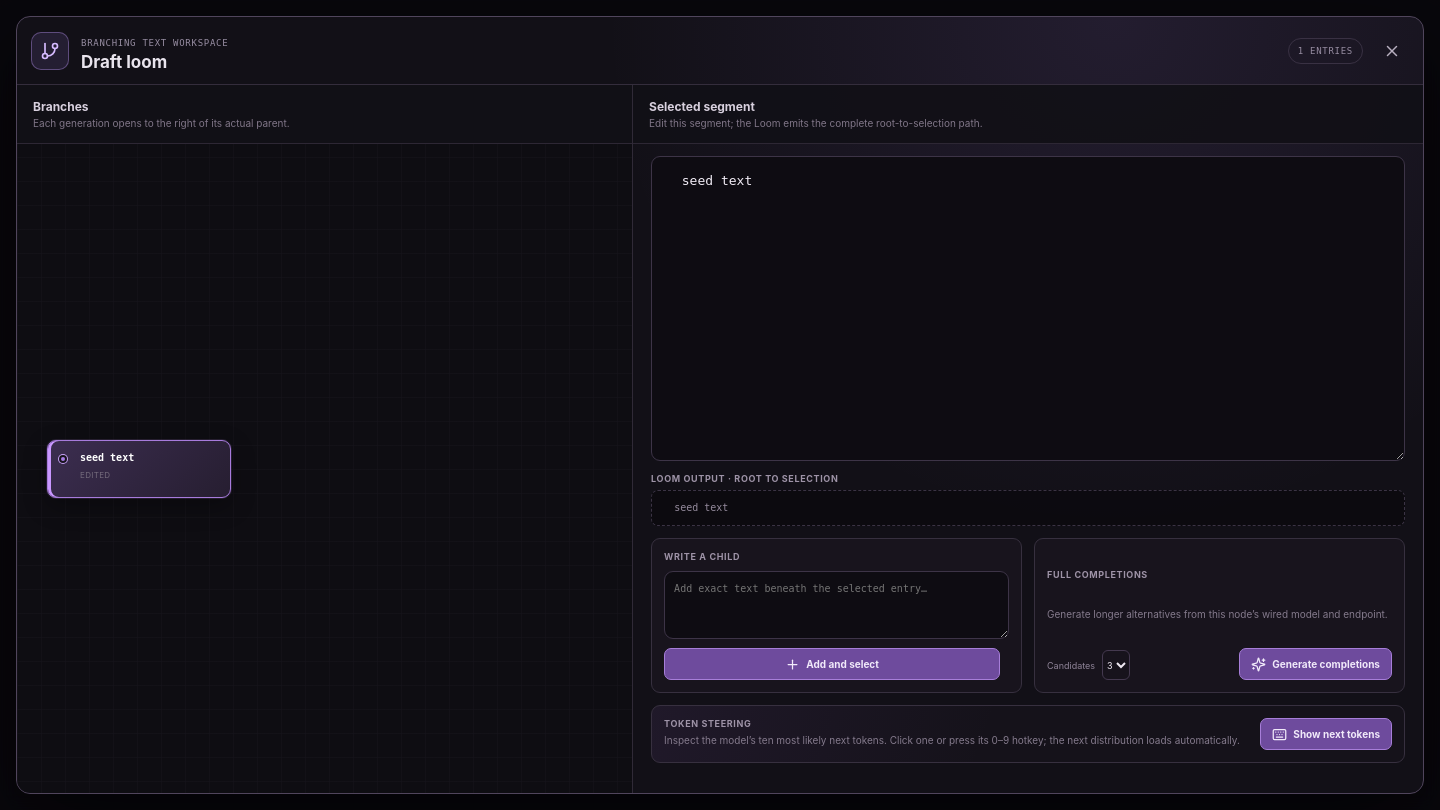
Test: LoomEditor › generates through a transient completion target and selects its result
Select "1" in the dropdown labelled "Candidates" at {"x": 1116, "y": 665}, box [1102,650,1130,680]
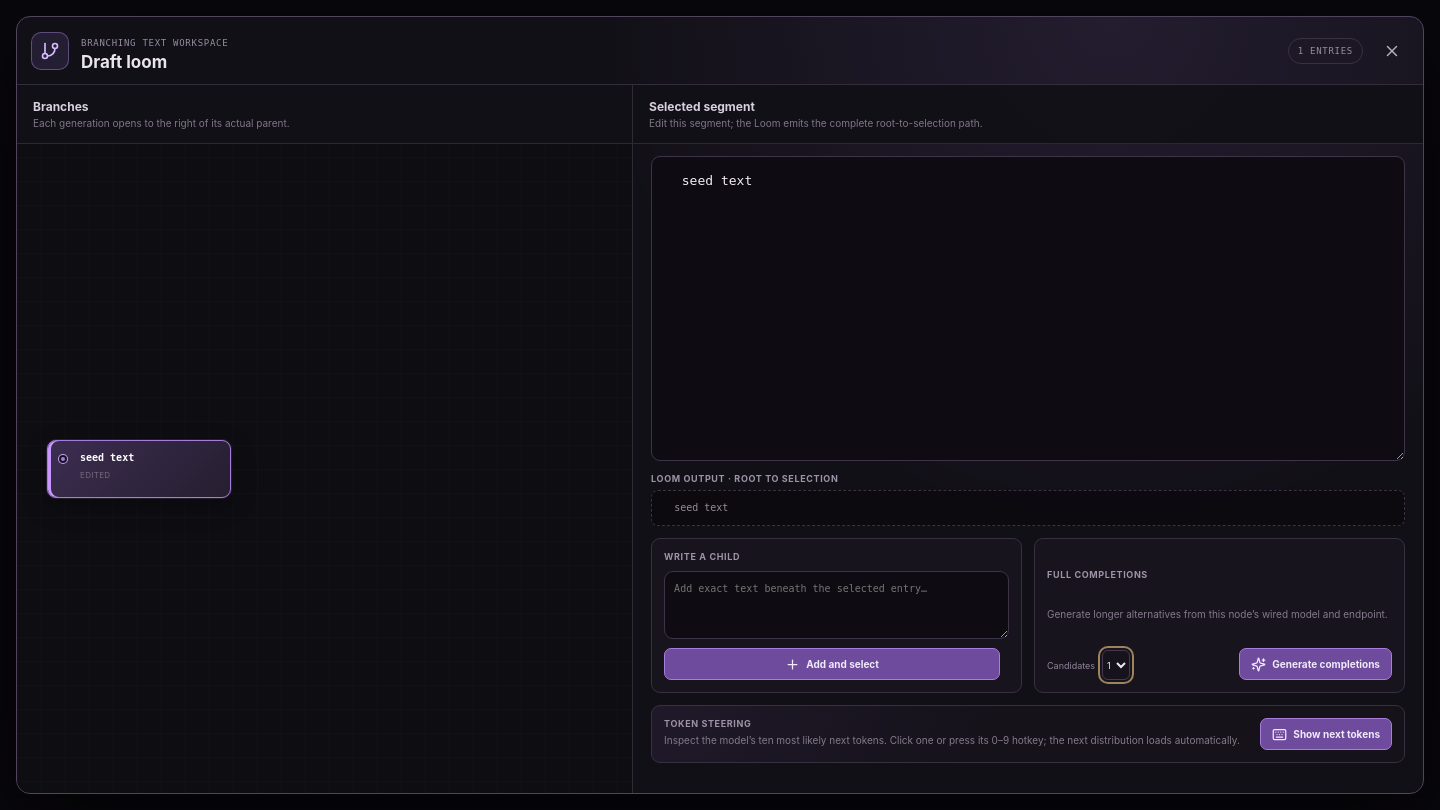
Click the button "Generate completions" at {"x": 1316, "y": 664}, box [1239,648,1392,680]
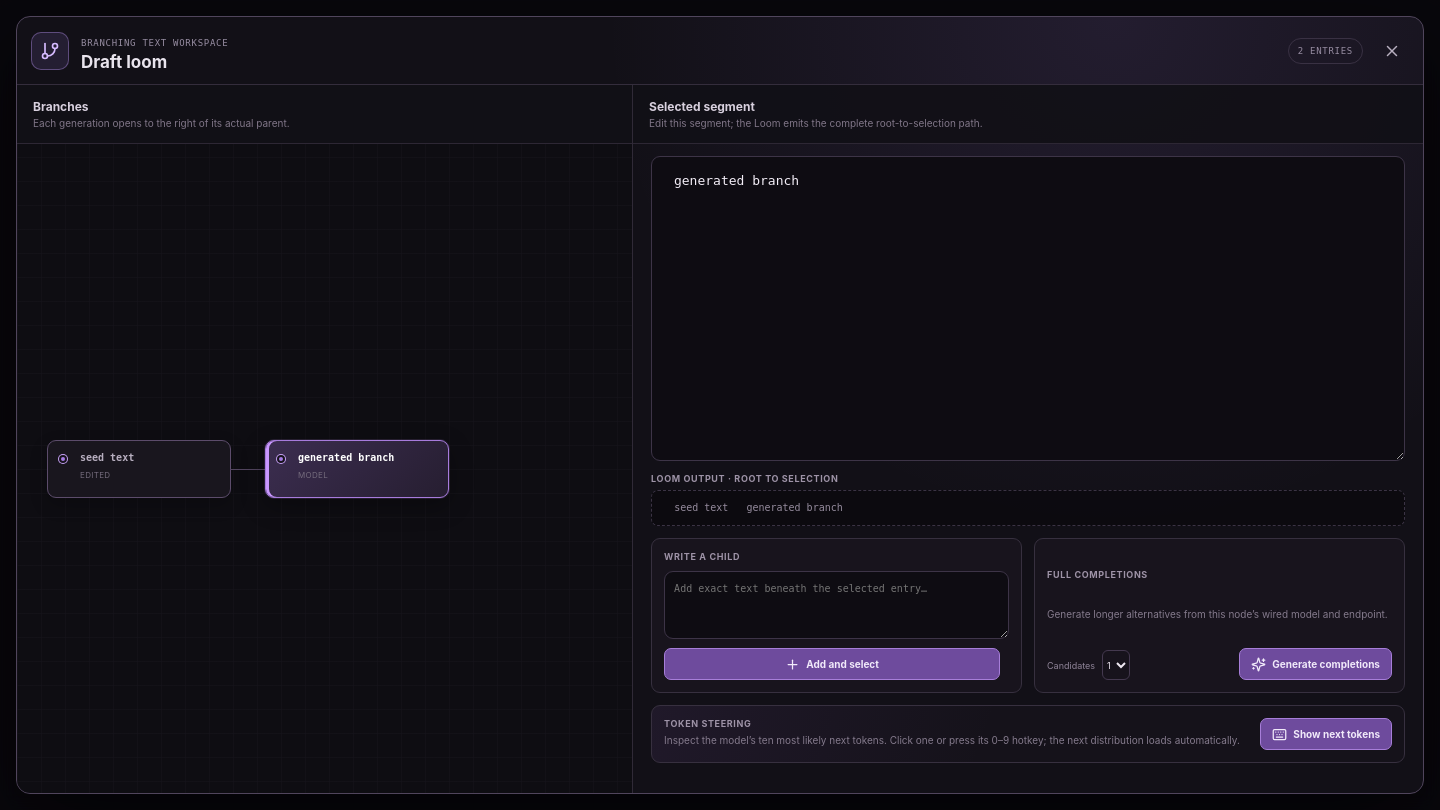
expect the text "seed text" is shown: met, box [80,452,134,462]
expect the text box named "Selected loom segment" holds " generated branch": met, box [651,156,1405,460]
